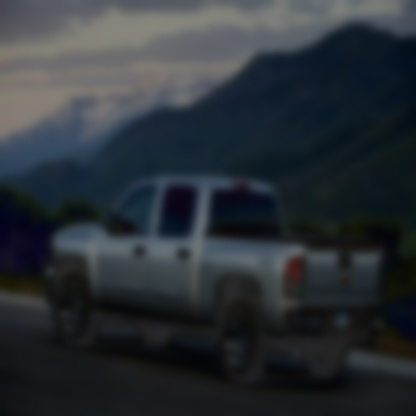Vehicle: (44, 175, 386, 390)
